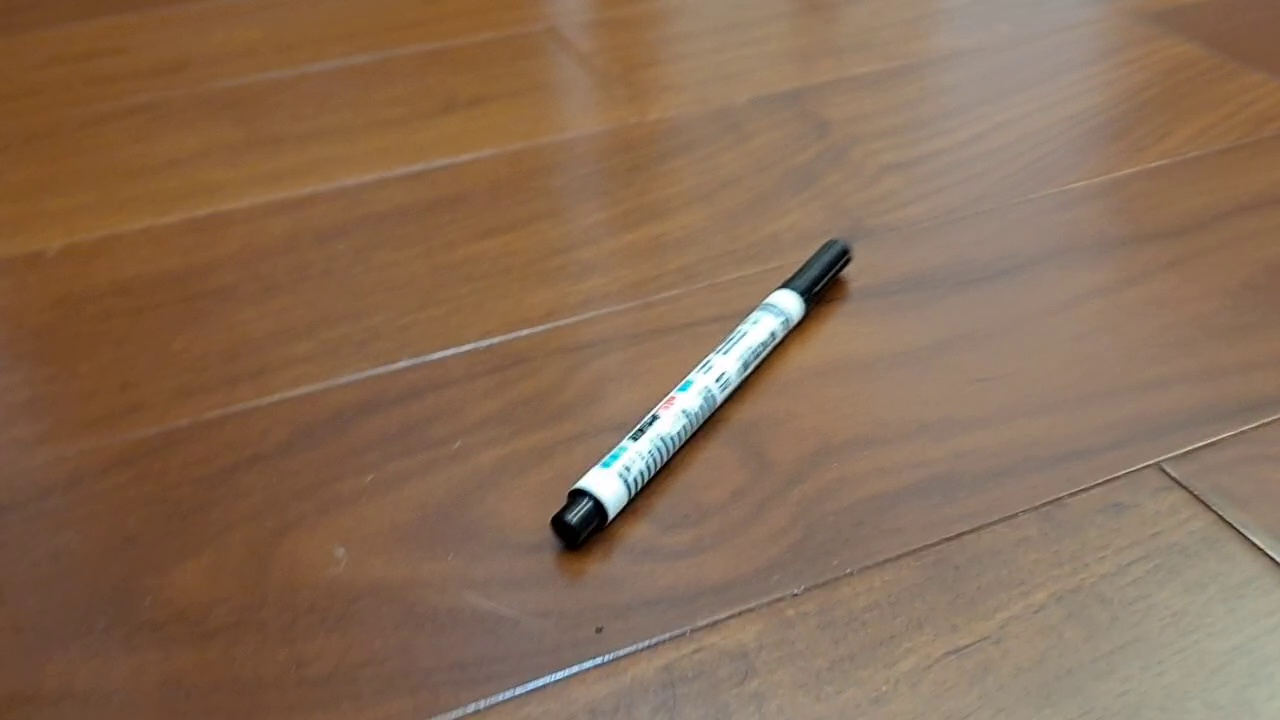pen: (549, 237, 853, 552)
